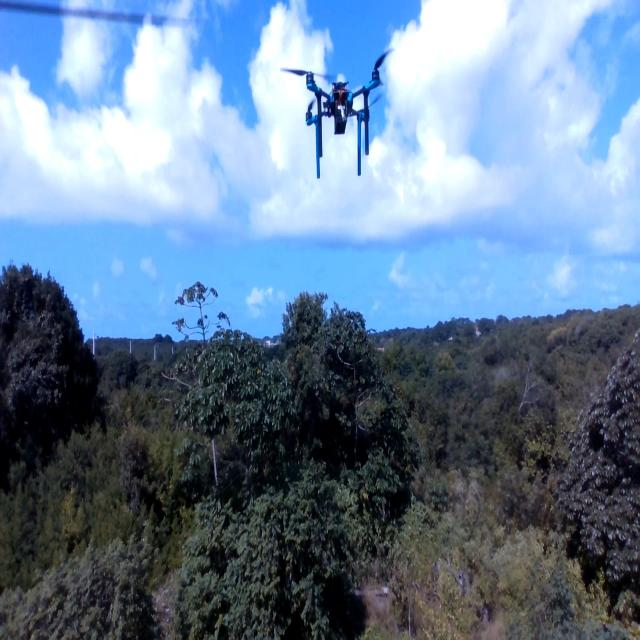-uav-: (277, 37, 411, 194)
